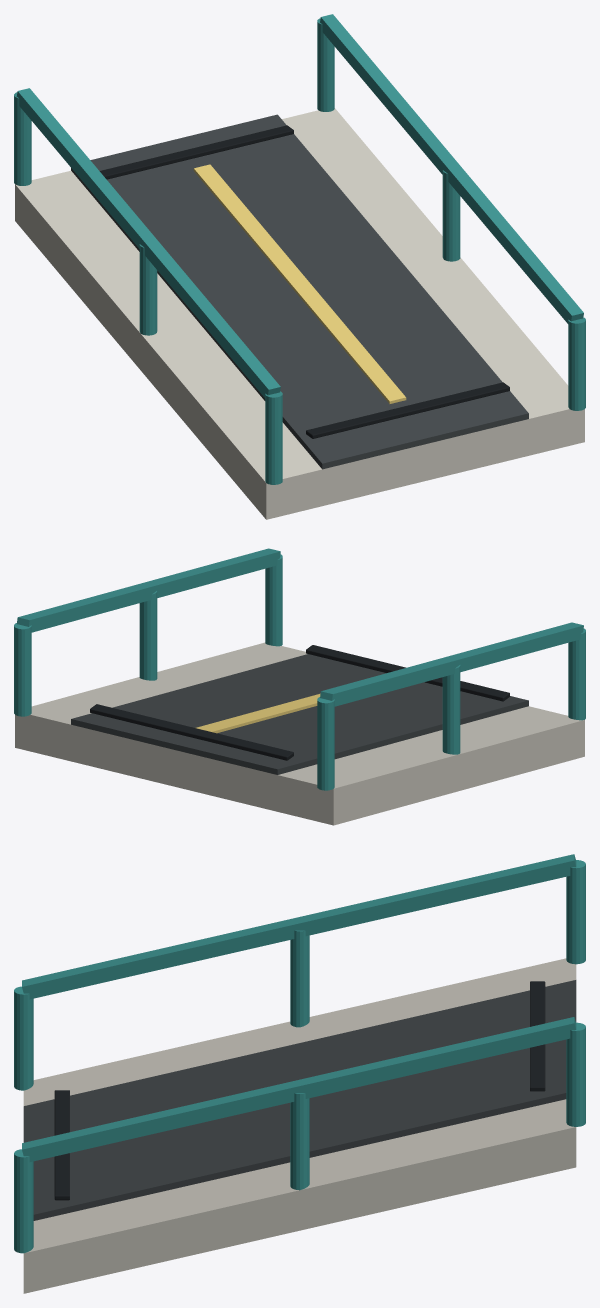
The model's file is BRG_LOCAL_RAMP_1x1_UP_050.glb.
3 views of the same model, one above another, from view 1: azimuth 30°, elevation 25°; view 2: azimuth 150°, elevation 25°; view 3: azimuth 270°, elevation 25° (orthographic). The views are drawn at different scales.
Visible parts, largest first — view 1: BRG_LOCAL_RAMP_1x1_UP_050_Visual; view 2: BRG_LOCAL_RAMP_1x1_UP_050_Visual; view 3: BRG_LOCAL_RAMP_1x1_UP_050_Visual.
Boxes of the visible parts, x1,y1,x2,y2 form: BRG_LOCAL_RAMP_1x1_UP_050_Visual: (14, 14, 585, 519); BRG_LOCAL_RAMP_1x1_UP_050_Visual: (14, 548, 585, 825); BRG_LOCAL_RAMP_1x1_UP_050_Visual: (14, 854, 585, 1293).
Size of what is drawn, in the model's own units: 1.45 by 1.07 by 2.05.
